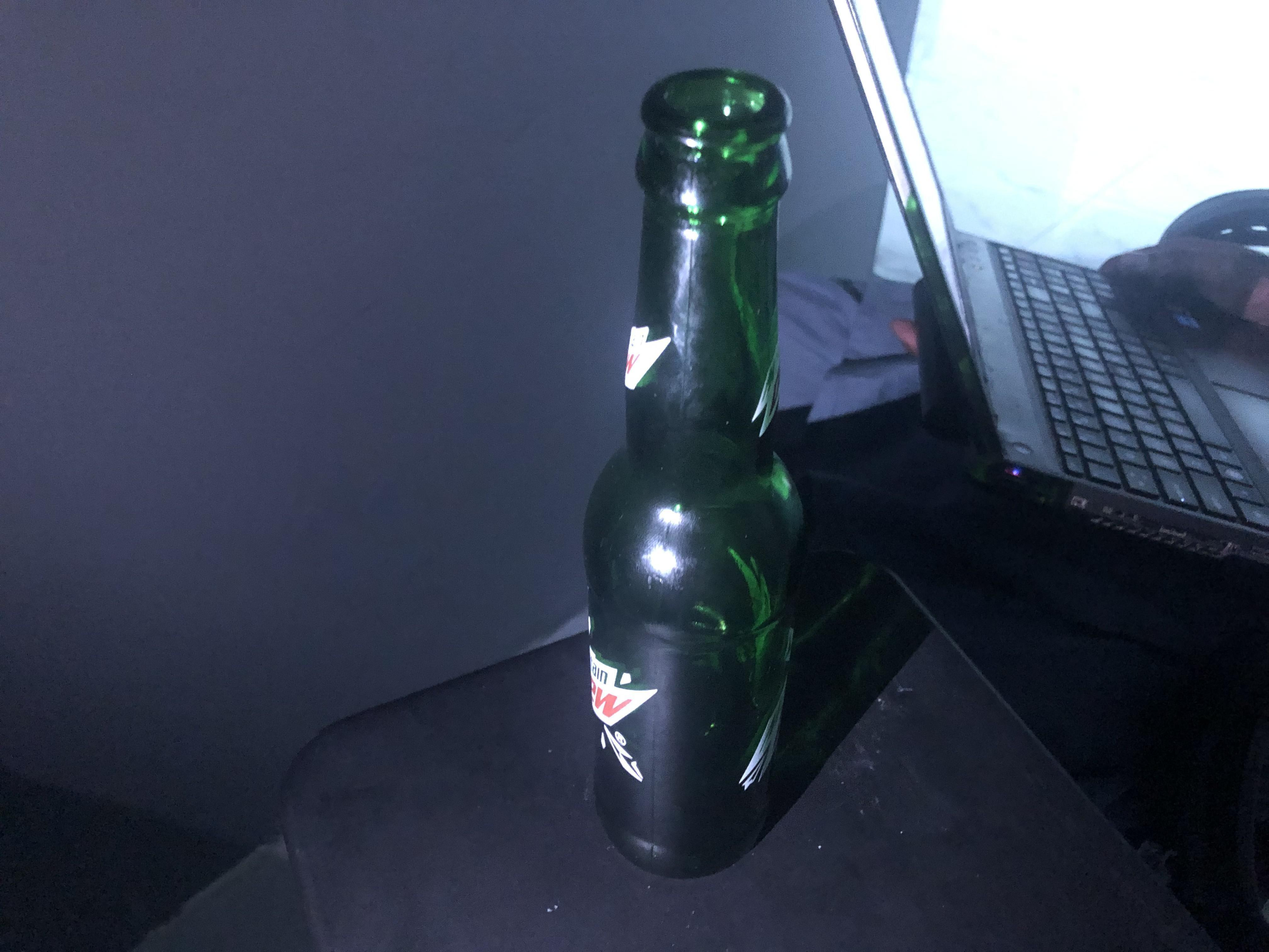bottle-glass: (588, 60, 808, 882)
